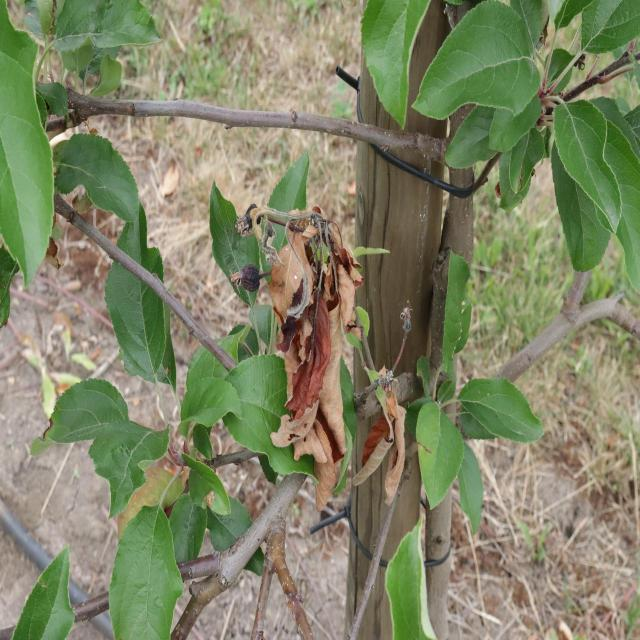-FireBlight-: (274, 192, 360, 491), (368, 363, 403, 500)
